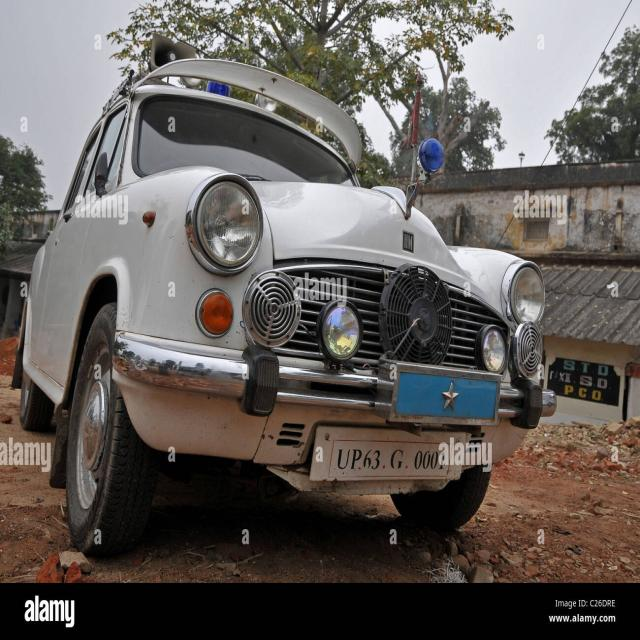plate: (317, 421, 465, 491)
